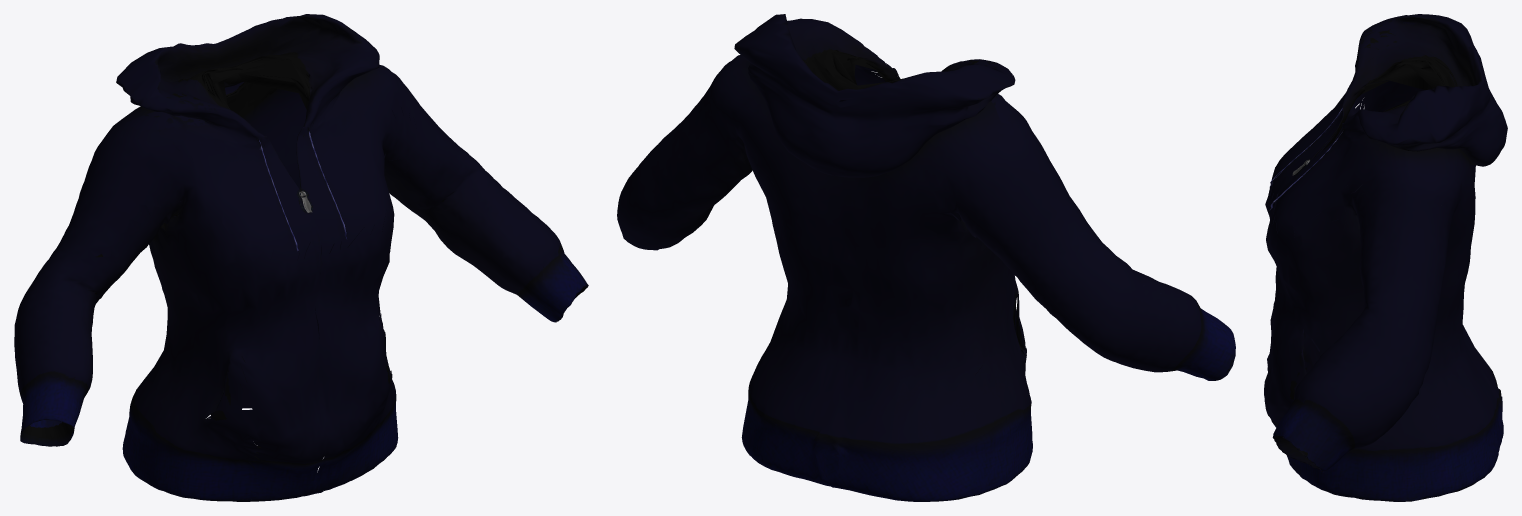
The model's file is ONFIT_HoodedJacket_Female_v4.glb.
3 renders of one model, left to right at view 1: azimuth 30°, elevation 25°; view 2: azimuth 150°, elevation 25°; view 3: azimuth 270°, elevation 25°, orthographic. The views are drawn at different scales.
Parts seen in each view (by area): view 1: ONFIT_HoodedJacket; view 2: ONFIT_HoodedJacket; view 3: ONFIT_HoodedJacket.
Boxes of the visible parts, <box> form: ONFIT_HoodedJacket: <box>14,14,588,501</box>; ONFIT_HoodedJacket: <box>617,14,1235,501</box>; ONFIT_HoodedJacket: <box>1264,14,1507,501</box>.
Size of the model in its own units: 0.9036 by 0.6206 by 0.3441.
1 material, 1 textured.
